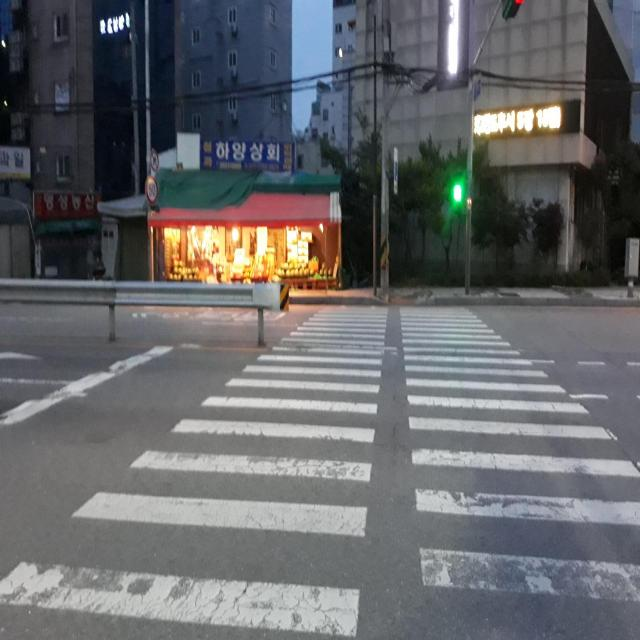초록불: (452, 181, 464, 229)
횡단보도: (0, 301, 640, 639)
